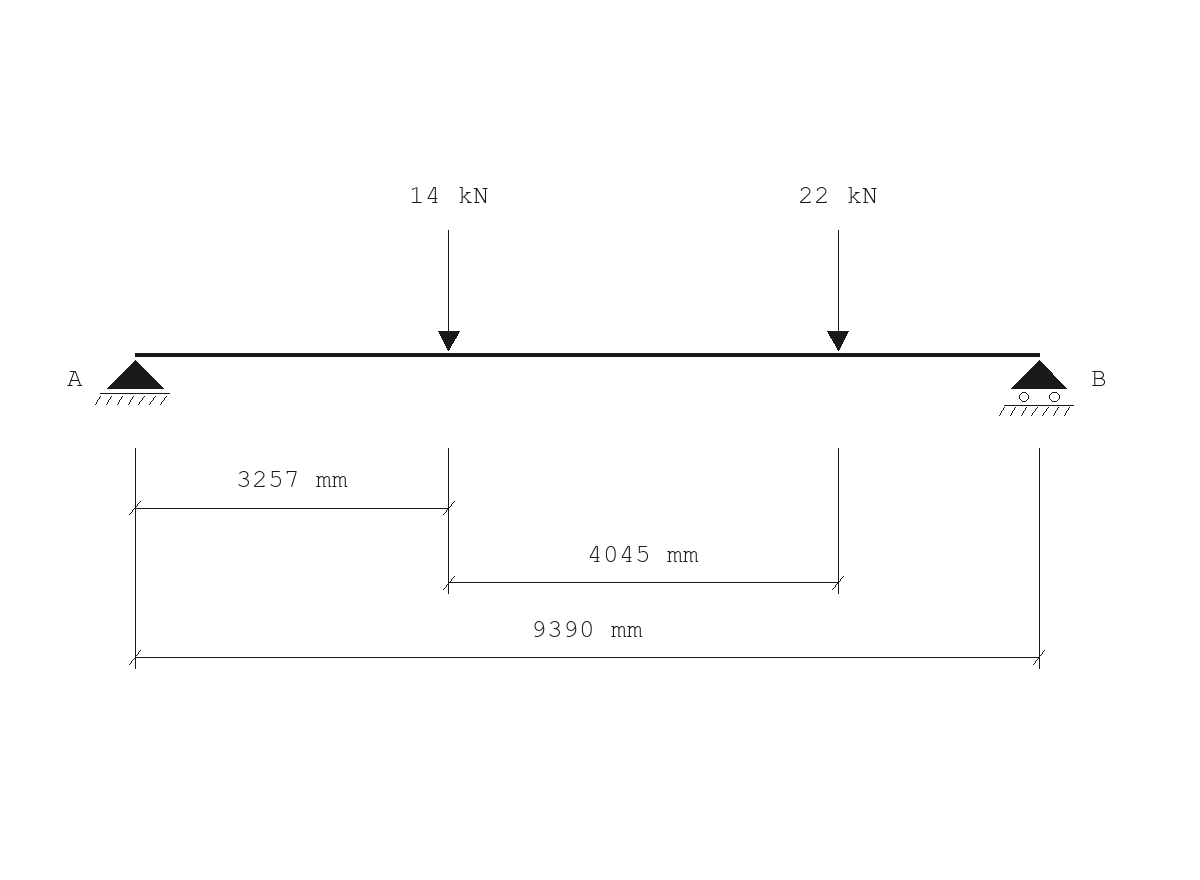pin_support: (95, 360, 170, 405)
point_load: (438, 230, 460, 351), (827, 230, 849, 351)
roller_support: (999, 360, 1074, 416)
